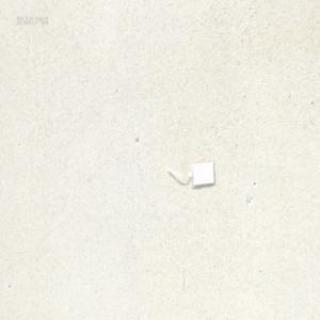LuggageTagtrack_idkeyframe: (165, 159, 223, 192)
